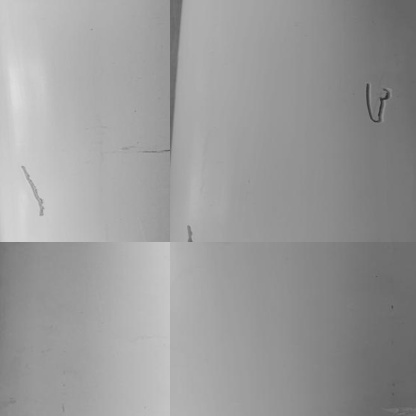fengxi: (361, 81, 394, 128)
sunshang: (19, 160, 55, 213)
